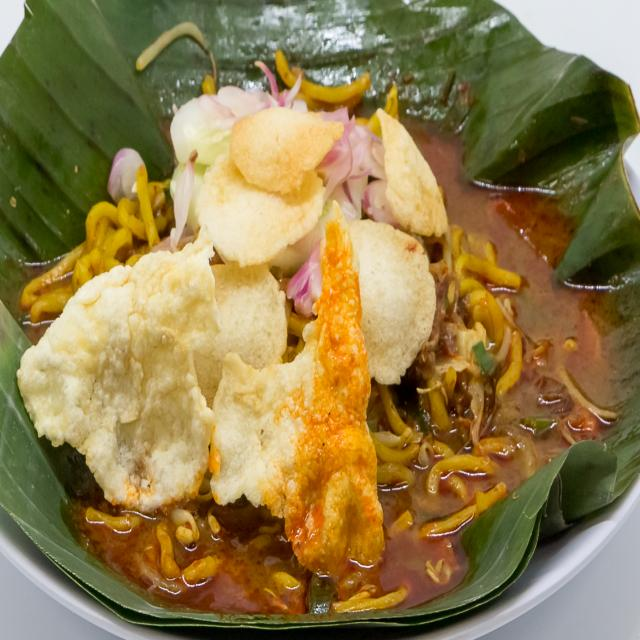Mie-Aceh: (17, 50, 610, 613)
